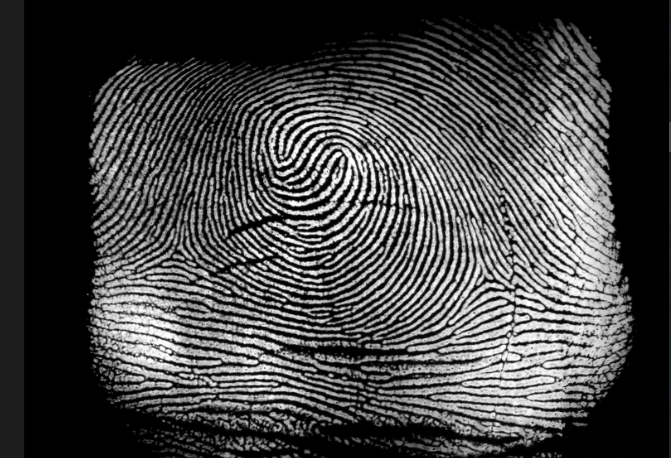deltas: (147, 223, 206, 286), (449, 251, 516, 306)
nucleo: (264, 117, 351, 186)
